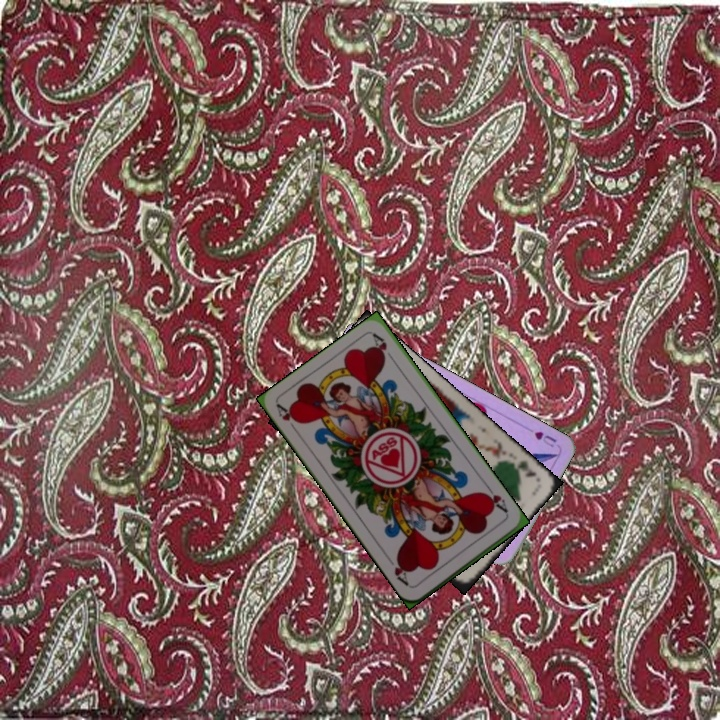GK: (514, 456, 539, 480)
HA: (479, 482, 511, 518), (273, 400, 302, 437)
HU: (530, 427, 559, 450)
